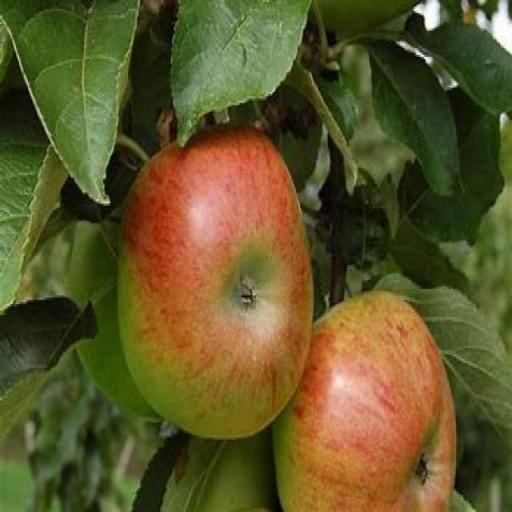fruit: (119, 128, 312, 438), (274, 292, 455, 511), (70, 223, 157, 418), (168, 429, 276, 511)
